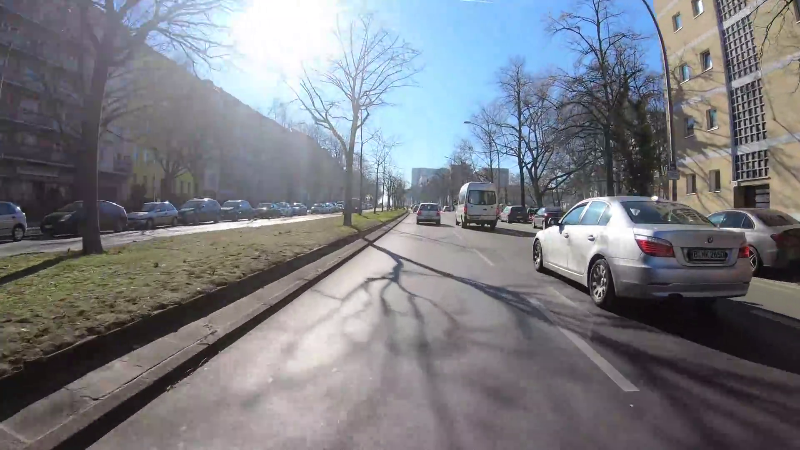Plate: (683, 246, 729, 262)
